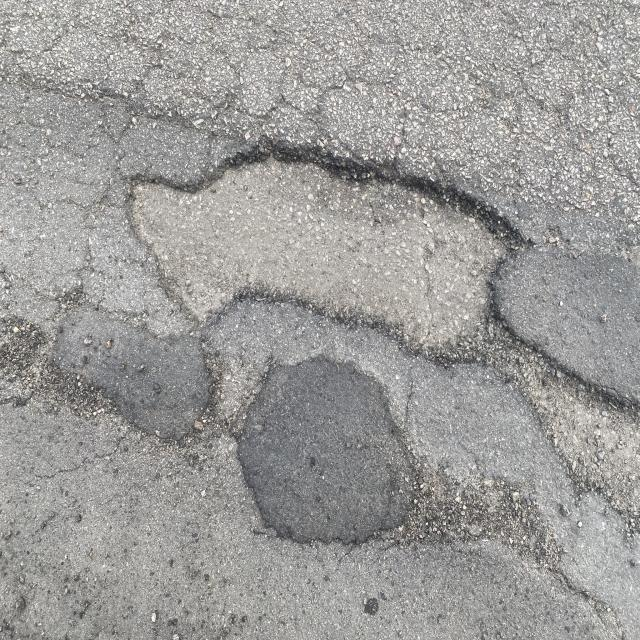Pothole: (104, 75, 576, 394)
